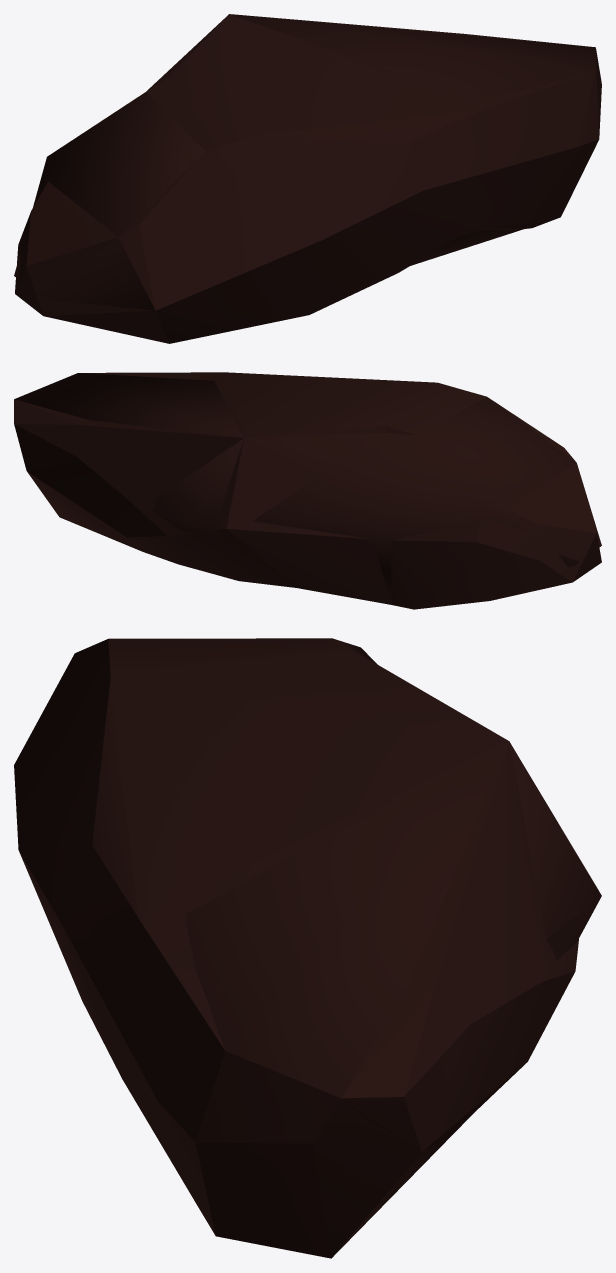
File: SM_Venus_Rock_04.fbx
The picture shows the model from 3 angles, top to bottom: view 1: azimuth 30°, elevation 25°; view 2: azimuth 150°, elevation 25°; view 3: azimuth 270°, elevation 25°; orthographic projection. The views are drawn at different scales.
Visible parts, largest first — view 1: SM_Venus_Rock_04, SM_Venus_Rock_04_col; view 2: SM_Venus_Rock_04, SM_Venus_Rock_04_col; view 3: SM_Venus_Rock_04, SM_Venus_Rock_04_col.
Boxes of the visible parts, <box> form: SM_Venus_Rock_04: <box>15,14,601,343</box>; SM_Venus_Rock_04_col: <box>14,14,595,310</box>; SM_Venus_Rock_04: <box>14,372,601,609</box>; SM_Venus_Rock_04_col: <box>14,373,601,603</box>; SM_Venus_Rock_04: <box>14,638,578,1258</box>; SM_Venus_Rock_04_col: <box>186,638,601,1257</box>.
Bounding box in the file's own units: 429 × 134 × 223.
